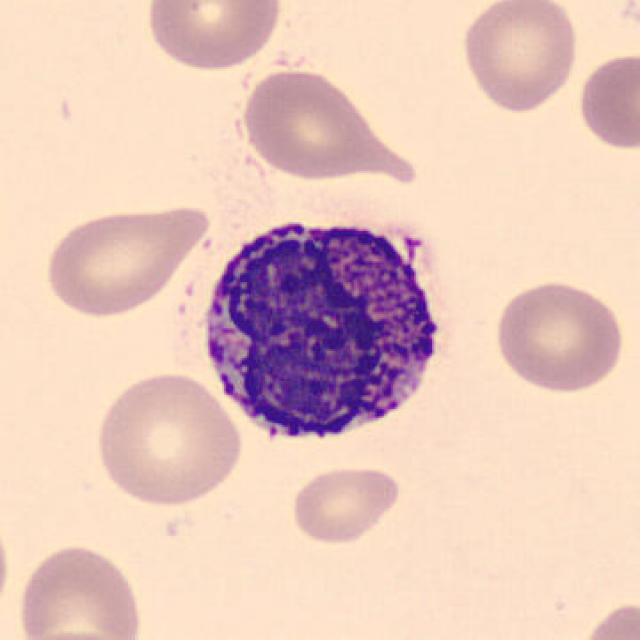Basophil: (192, 203, 460, 458)
RBC: (91, 366, 245, 509), (39, 199, 213, 321), (236, 65, 400, 184), (490, 275, 628, 397), (457, 0, 581, 115), (12, 539, 149, 640), (140, 0, 286, 74), (286, 462, 404, 546), (574, 48, 638, 154), (576, 597, 640, 640), (16, 627, 138, 640), (0, 505, 12, 629), (609, 0, 638, 42)
